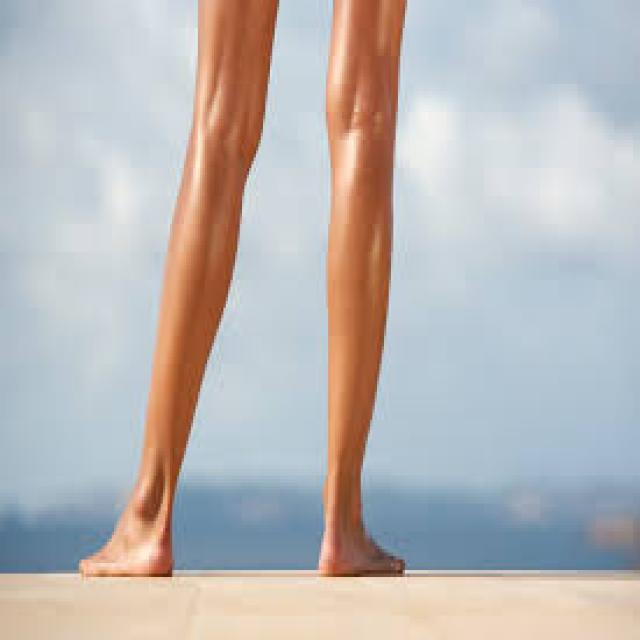Normal: (158, 52, 396, 470)
